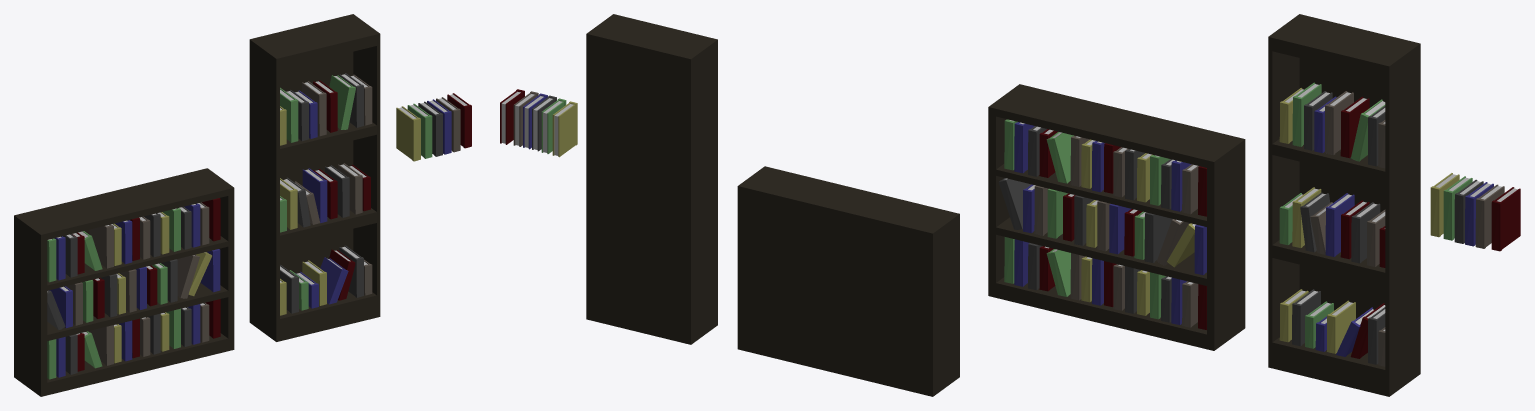
Rendered from bookshelves.fbx.
3 views of the same model, side by side, from view 1: azimuth 30°, elevation 25°; view 2: azimuth 150°, elevation 25°; view 3: azimuth 330°, elevation 25° (orthographic). The views are drawn at different scales.
Parts seen in each view (by area): view 1: bookshelf, tallbookshelf, yellowbook, redbook, greenbook, greybook, tanbook, bluebook; view 2: bookshelf, tallbookshelf, yellowbook, redbook, greenbook, greybook, tanbook, bluebook; view 3: bookshelf, tallbookshelf, redbook, tanbook, yellowbook, greenbook, greybook, bluebook.
Part boxes in pixels (x1,y1,x2,y2): bookshelf: (14,168,234,396); tallbookshelf: (249,14,380,341); yellowbook: (396,106,420,161); redbook: (447,93,471,148); greenbook: (407,103,432,158); greybook: (418,101,442,156); tanbook: (436,97,460,152); bluebook: (427,99,451,154); bookshelf: (737,166,959,396); tallbookshelf: (586,14,717,344); yellowbook: (552,101,577,157); redbook: (500,89,524,144); greenbook: (541,98,566,153); greybook: (532,95,556,151); tanbook: (513,91,538,146); bluebook: (523,93,547,149); bookshelf: (988,84,1245,350); tallbookshelf: (1268,14,1420,396); redbook: (1491,187,1520,251); tanbook: (1475,184,1504,248); yellowbook: (1430,173,1459,237); greenbook: (1443,176,1472,240); greybook: (1454,179,1483,243); bluebook: (1465,182,1493,246).
Size of the model in its own units: 5.62 by 3.5 by 0.6485.
